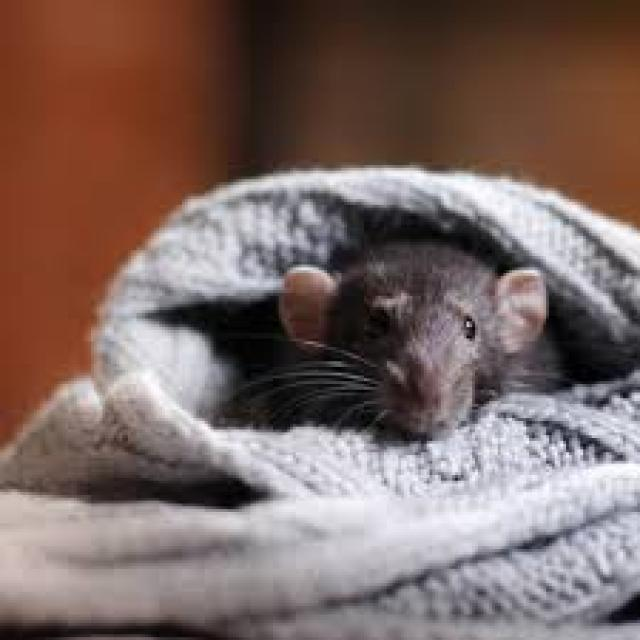Rat: (246, 214, 533, 446)
